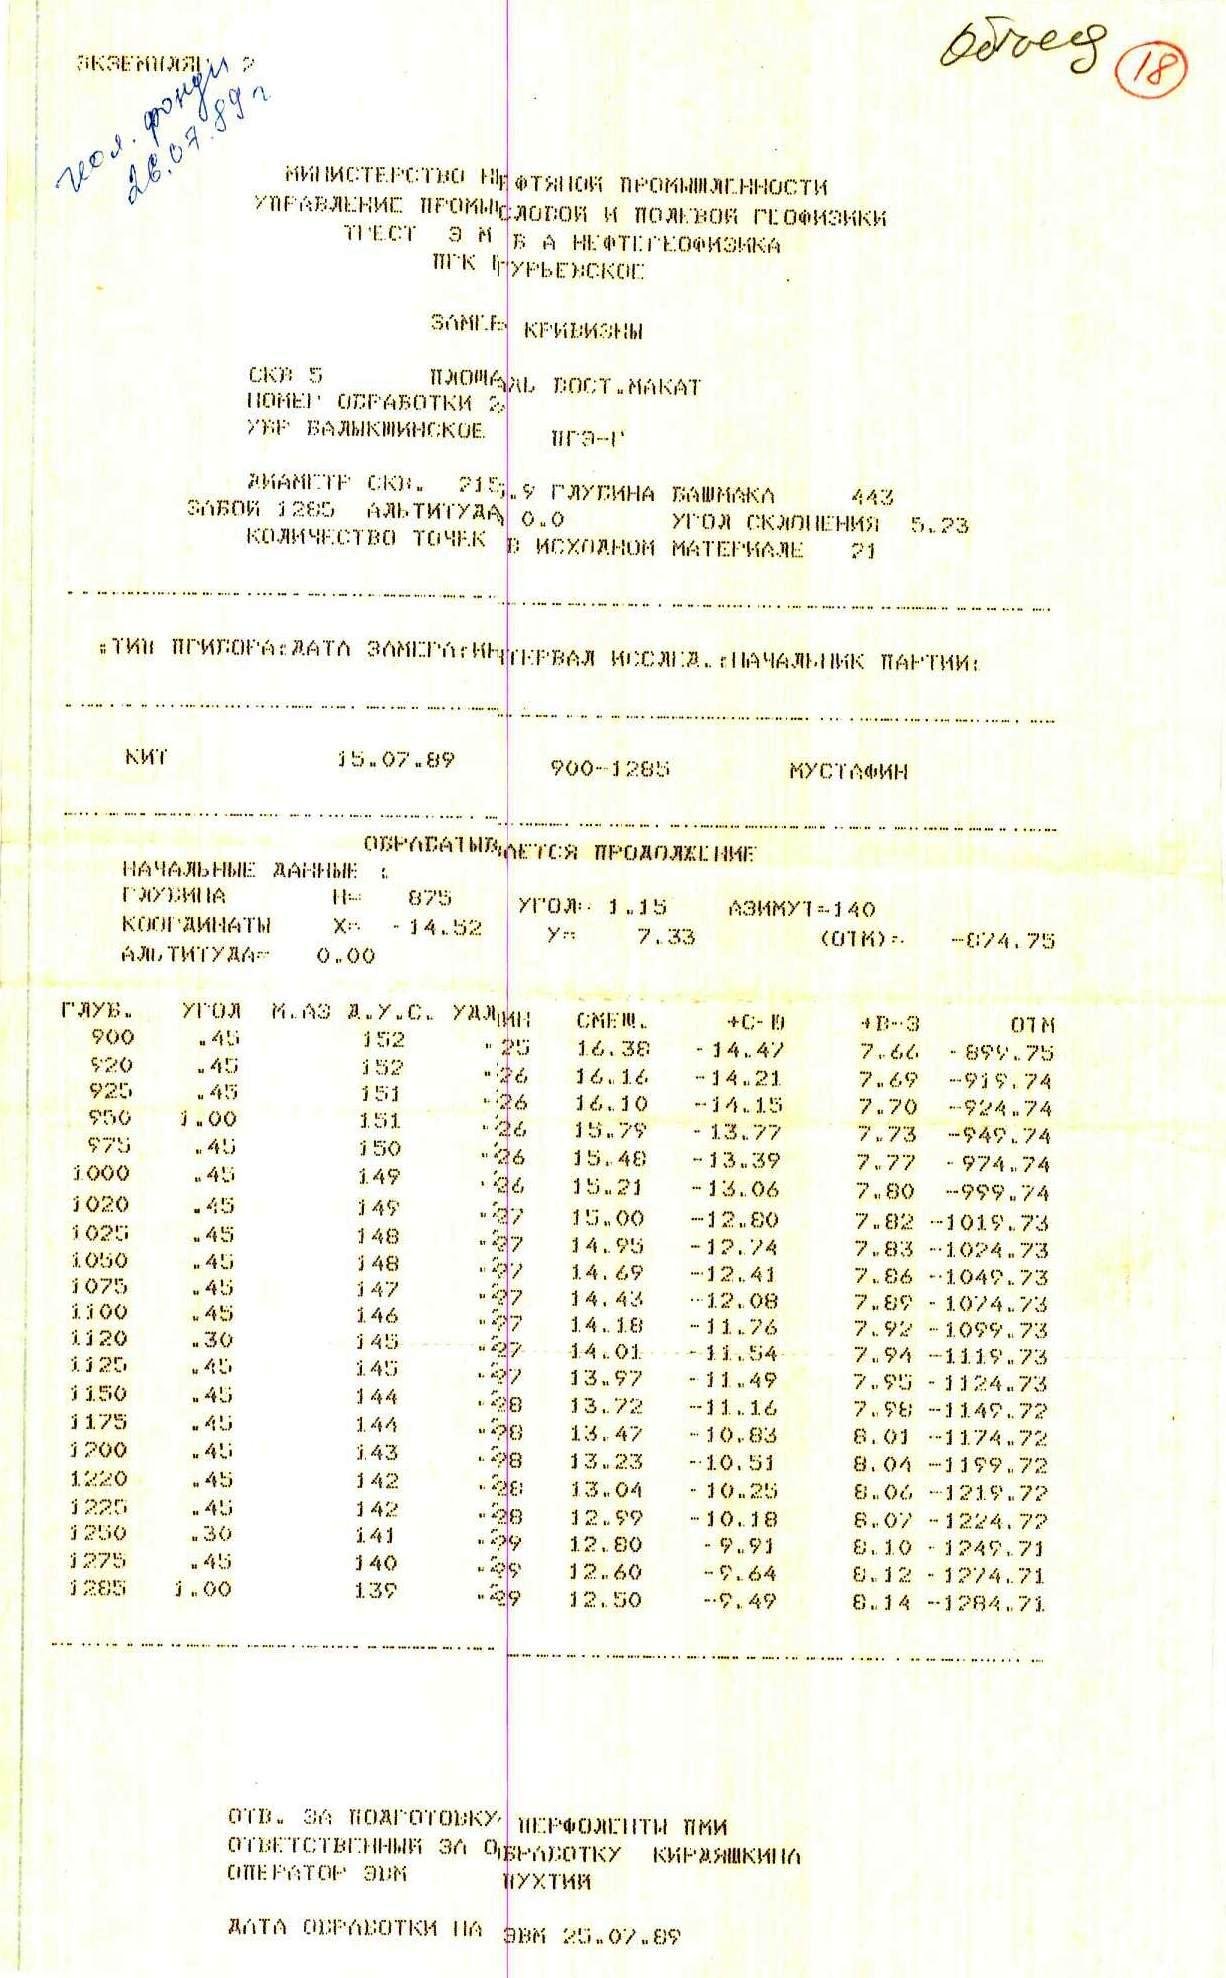Borderless: (27, 968, 1092, 1662)
